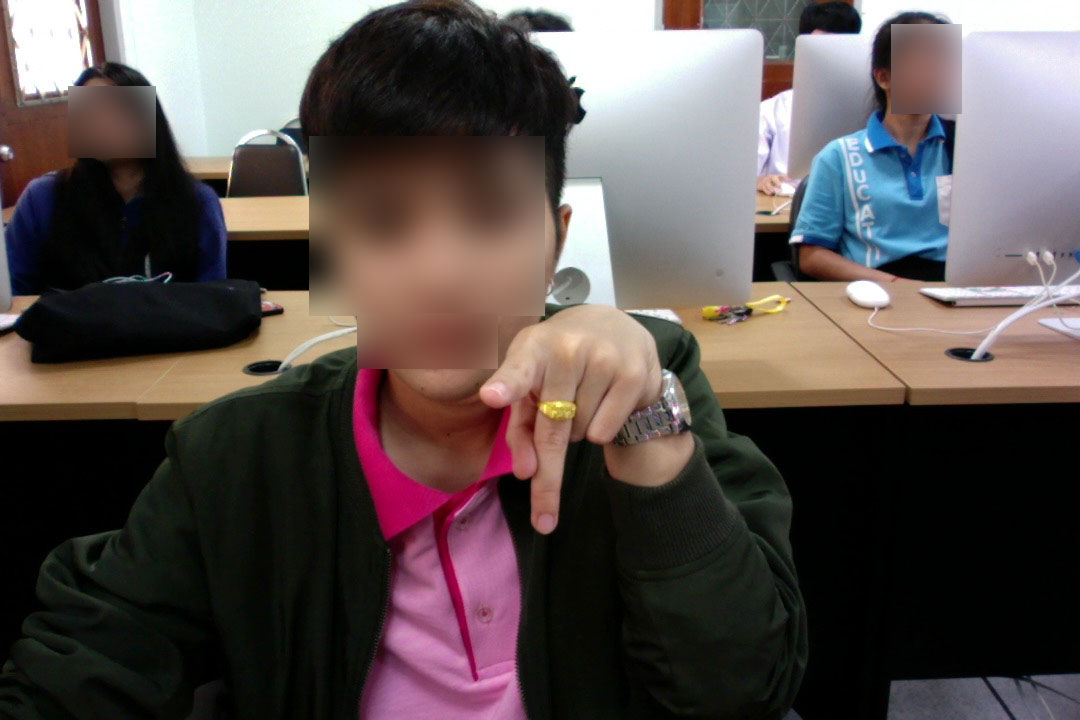por: (478, 292, 662, 540)
